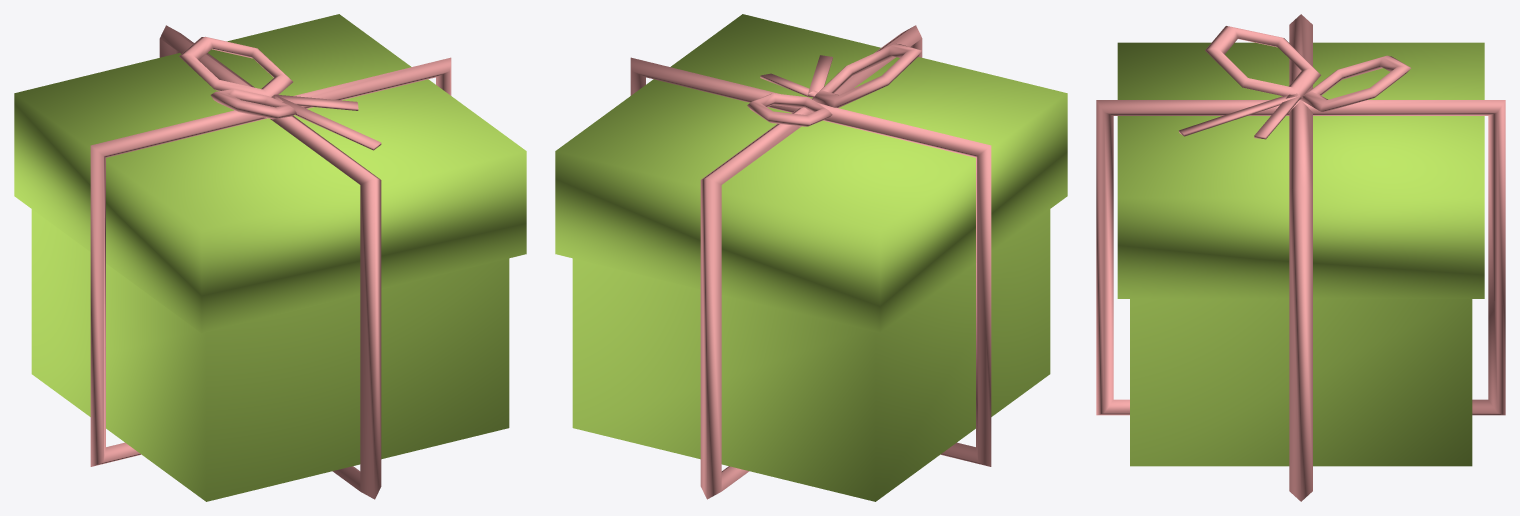
File: pickables.fbx
The picture shows the model from 3 angles, left to right: view 1: azimuth 30°, elevation 25°; view 2: azimuth 150°, elevation 25°; view 3: azimuth 270°, elevation 25°; orthographic projection.
Visible parts, largest first — view 1: polySurface1; view 2: polySurface1; view 3: polySurface1.
Boxes of the visible parts, x1,y1,x2,y2 form: polySurface1: (14,14,526,501); polySurface1: (555,14,1067,501); polySurface1: (1096,14,1505,501).
Size of the model in its own units: 1.99 by 1.92 by 1.99.
1 material, 1 textured.
